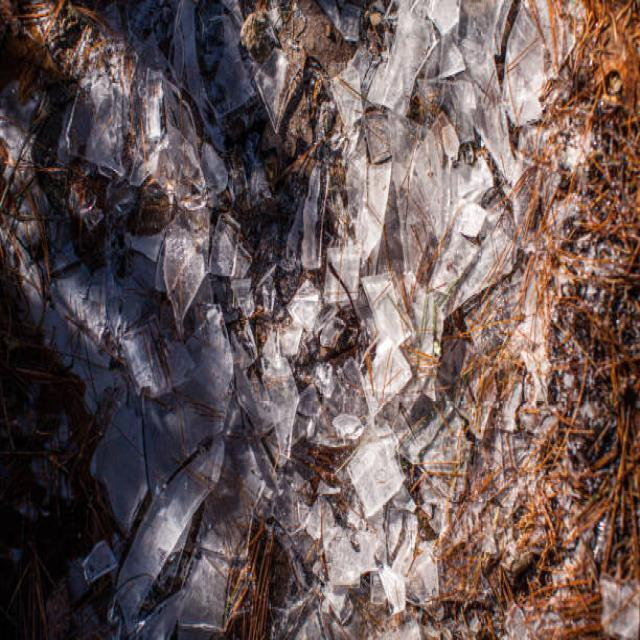glass: (170, 240, 458, 588)
